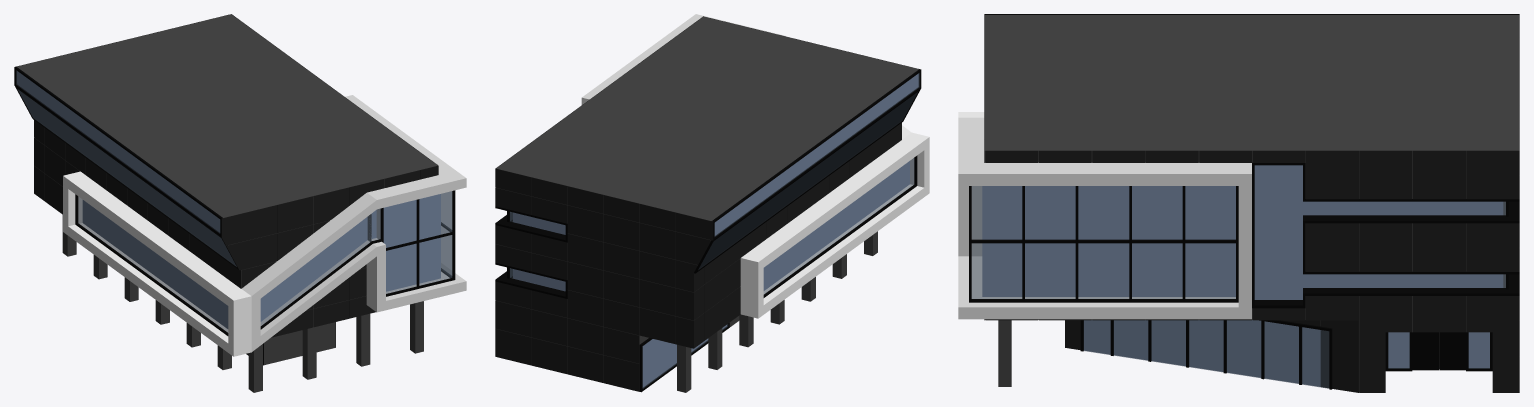
3 views of the same model, side by side, from view 1: azimuth 30°, elevation 25°; view 2: azimuth 150°, elevation 25°; view 3: azimuth 270°, elevation 25° (orthographic). The views are drawn at different scales.
Parts seen in each view (by area): view 1: Main Building_0, Glass_5, Exterior_6, Cube_9, Cube.002_11, Pillar_1, Windows Frame_7, Cube.001_10; view 2: Main Building_0, Exterior_6, Glass_5, Cube_9, Cube.002_11, Windows Frame_7, Pillar_1, Cube.001_10; view 3: Main Building_0, Glass_5, Exterior_6, Windows Frame_7, Main Door_2, Pillar_1.
Part boxes in pixels (x1=…): Main Building_0: x1=17, y1=14, x2=466, y2=365; Glass_5: x1=16, y1=70, x2=452, y2=332; Exterior_6: x1=14, y1=14, x2=438, y2=347; Cube_9: x1=63, y1=171, x2=251, y2=356; Cube.002_11: x1=34, y1=120, x2=241, y2=288; Pillar_1: x1=62, y1=215, x2=423, y2=392; Windows Frame_7: x1=14, y1=66, x2=455, y2=365; Cube.001_10: x1=75, y1=194, x2=228, y2=335; Main Building_0: x1=496, y1=14, x2=918, y2=391; Exterior_6: x1=495, y1=16, x2=921, y2=391; Glass_5: x1=510, y1=73, x2=919, y2=388; Cube_9: x1=740, y1=132, x2=929, y2=318; Cube.002_11: x1=693, y1=123, x2=901, y2=348; Windows Frame_7: x1=495, y1=69, x2=920, y2=392; Pillar_1: x1=677, y1=231, x2=877, y2=392; Cube.001_10: x1=763, y1=155, x2=917, y2=297; Main Building_0: x1=958, y1=15, x2=1519, y2=392; Glass_5: x1=971, y1=165, x2=1505, y2=388; Exterior_6: x1=984, y1=14, x2=1519, y2=392; Windows Frame_7: x1=969, y1=14, x2=1519, y2=389; Main Door_2: x1=1412, y1=332, x2=1465, y2=370; Pillar_1: x1=998, y1=320, x2=1011, y2=386.
Size of what is drawn, in the model's own units: 13.1 by 10 by 21.02.
